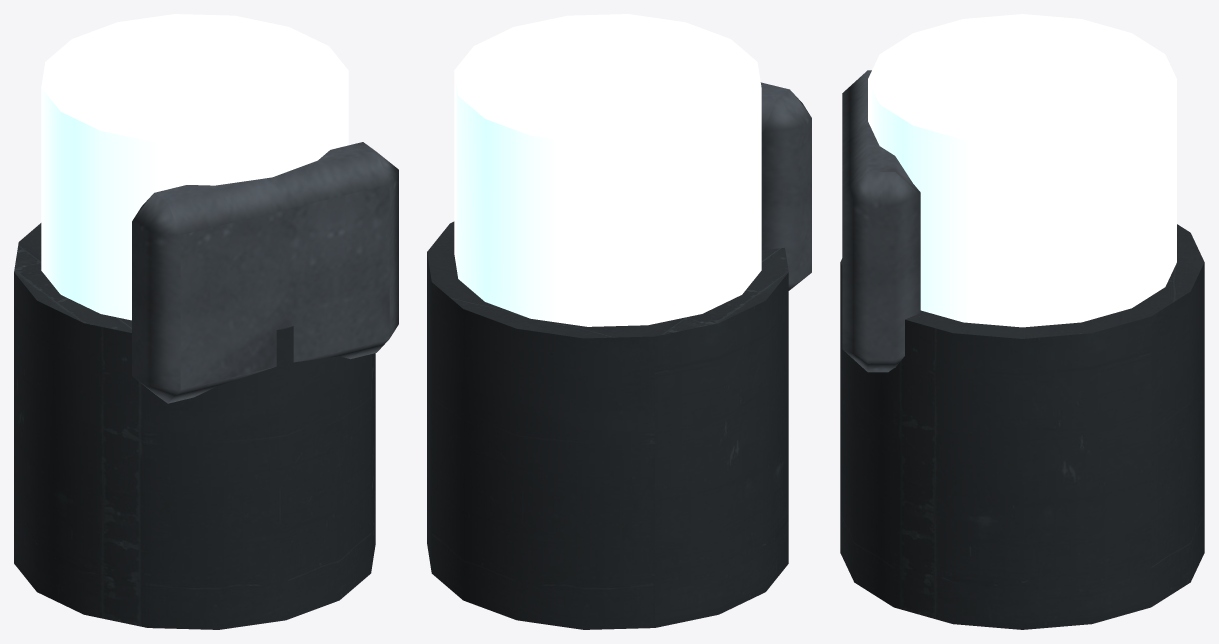
File: beacon.fbx
3 renders of one model, left to right at view 1: azimuth 30°, elevation 25°; view 2: azimuth 150°, elevation 25°; view 3: azimuth 270°, elevation 25°, orthographic.
Parts seen in each view (by area): view 1: SM_aster_beacon; view 2: SM_aster_beacon; view 3: SM_aster_beacon.
Part boxes in pixels (x1,y1,x2,y2): SM_aster_beacon: (14,14,398,629); SM_aster_beacon: (427,14,811,629); SM_aster_beacon: (840,14,1204,629).
Bounding box in the file's own units: 0.186 × 0.267 × 0.186.
3 materials, 2 textured.
